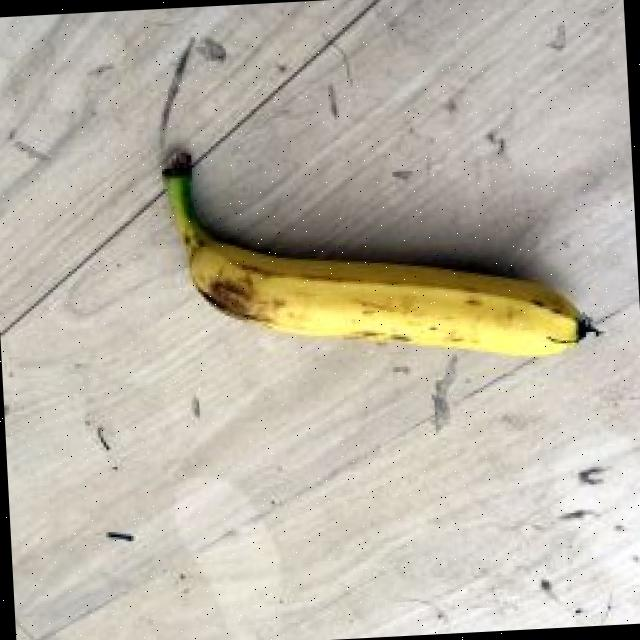banana: (162, 152, 598, 359)
